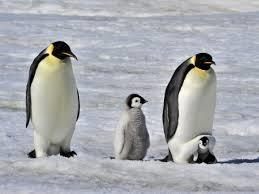emporer: (156, 45, 235, 169), (24, 36, 93, 166)
